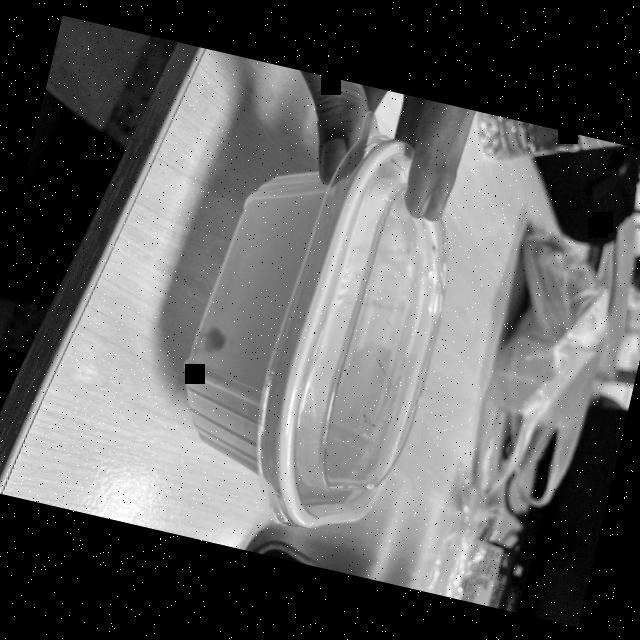plastic_box: (150, 91, 488, 550)
